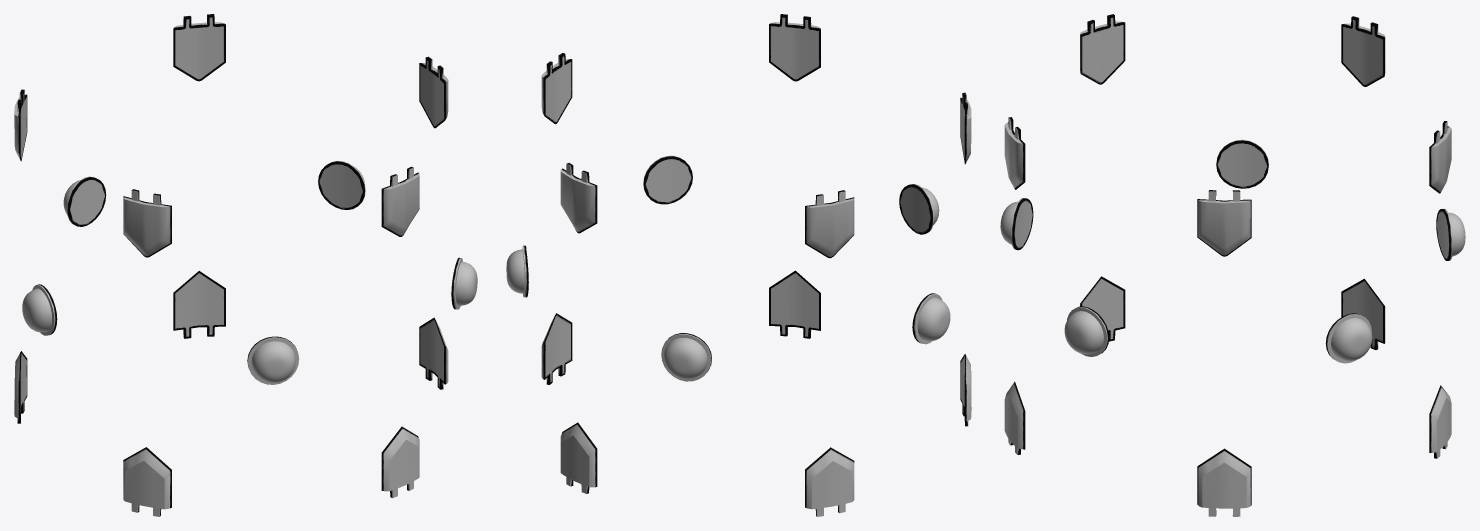
The model's file is drumsetV4_Detail003.obj.
The picture shows the model from 3 angles, left to right: view 1: azimuth 30°, elevation 25°; view 2: azimuth 150°, elevation 25°; view 3: azimuth 270°, elevation 25°; orthographic projection.
Visible parts, largest first — view 1: drumsetV4_Detail003_Cylinder.038; view 2: drumsetV4_Detail003_Cylinder.038; view 3: drumsetV4_Detail003_Cylinder.038.
Boxes of the visible parts, x1,y1,x2,y2 form: drumsetV4_Detail003_Cylinder.038: (14,14,477,516); drumsetV4_Detail003_Cylinder.038: (506,14,971,516); drumsetV4_Detail003_Cylinder.038: (1000,14,1465,516).
Size of the model in its own units: 1.45 by 1.1 by 1.42.
